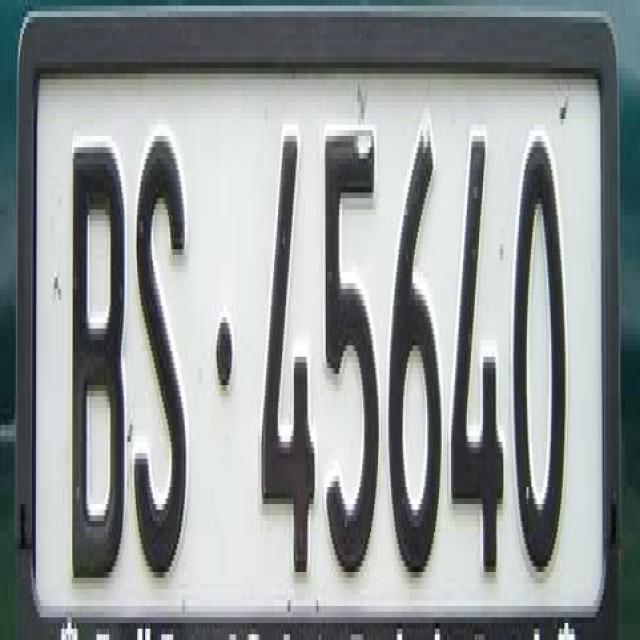Autre: (21, 8, 625, 640)
